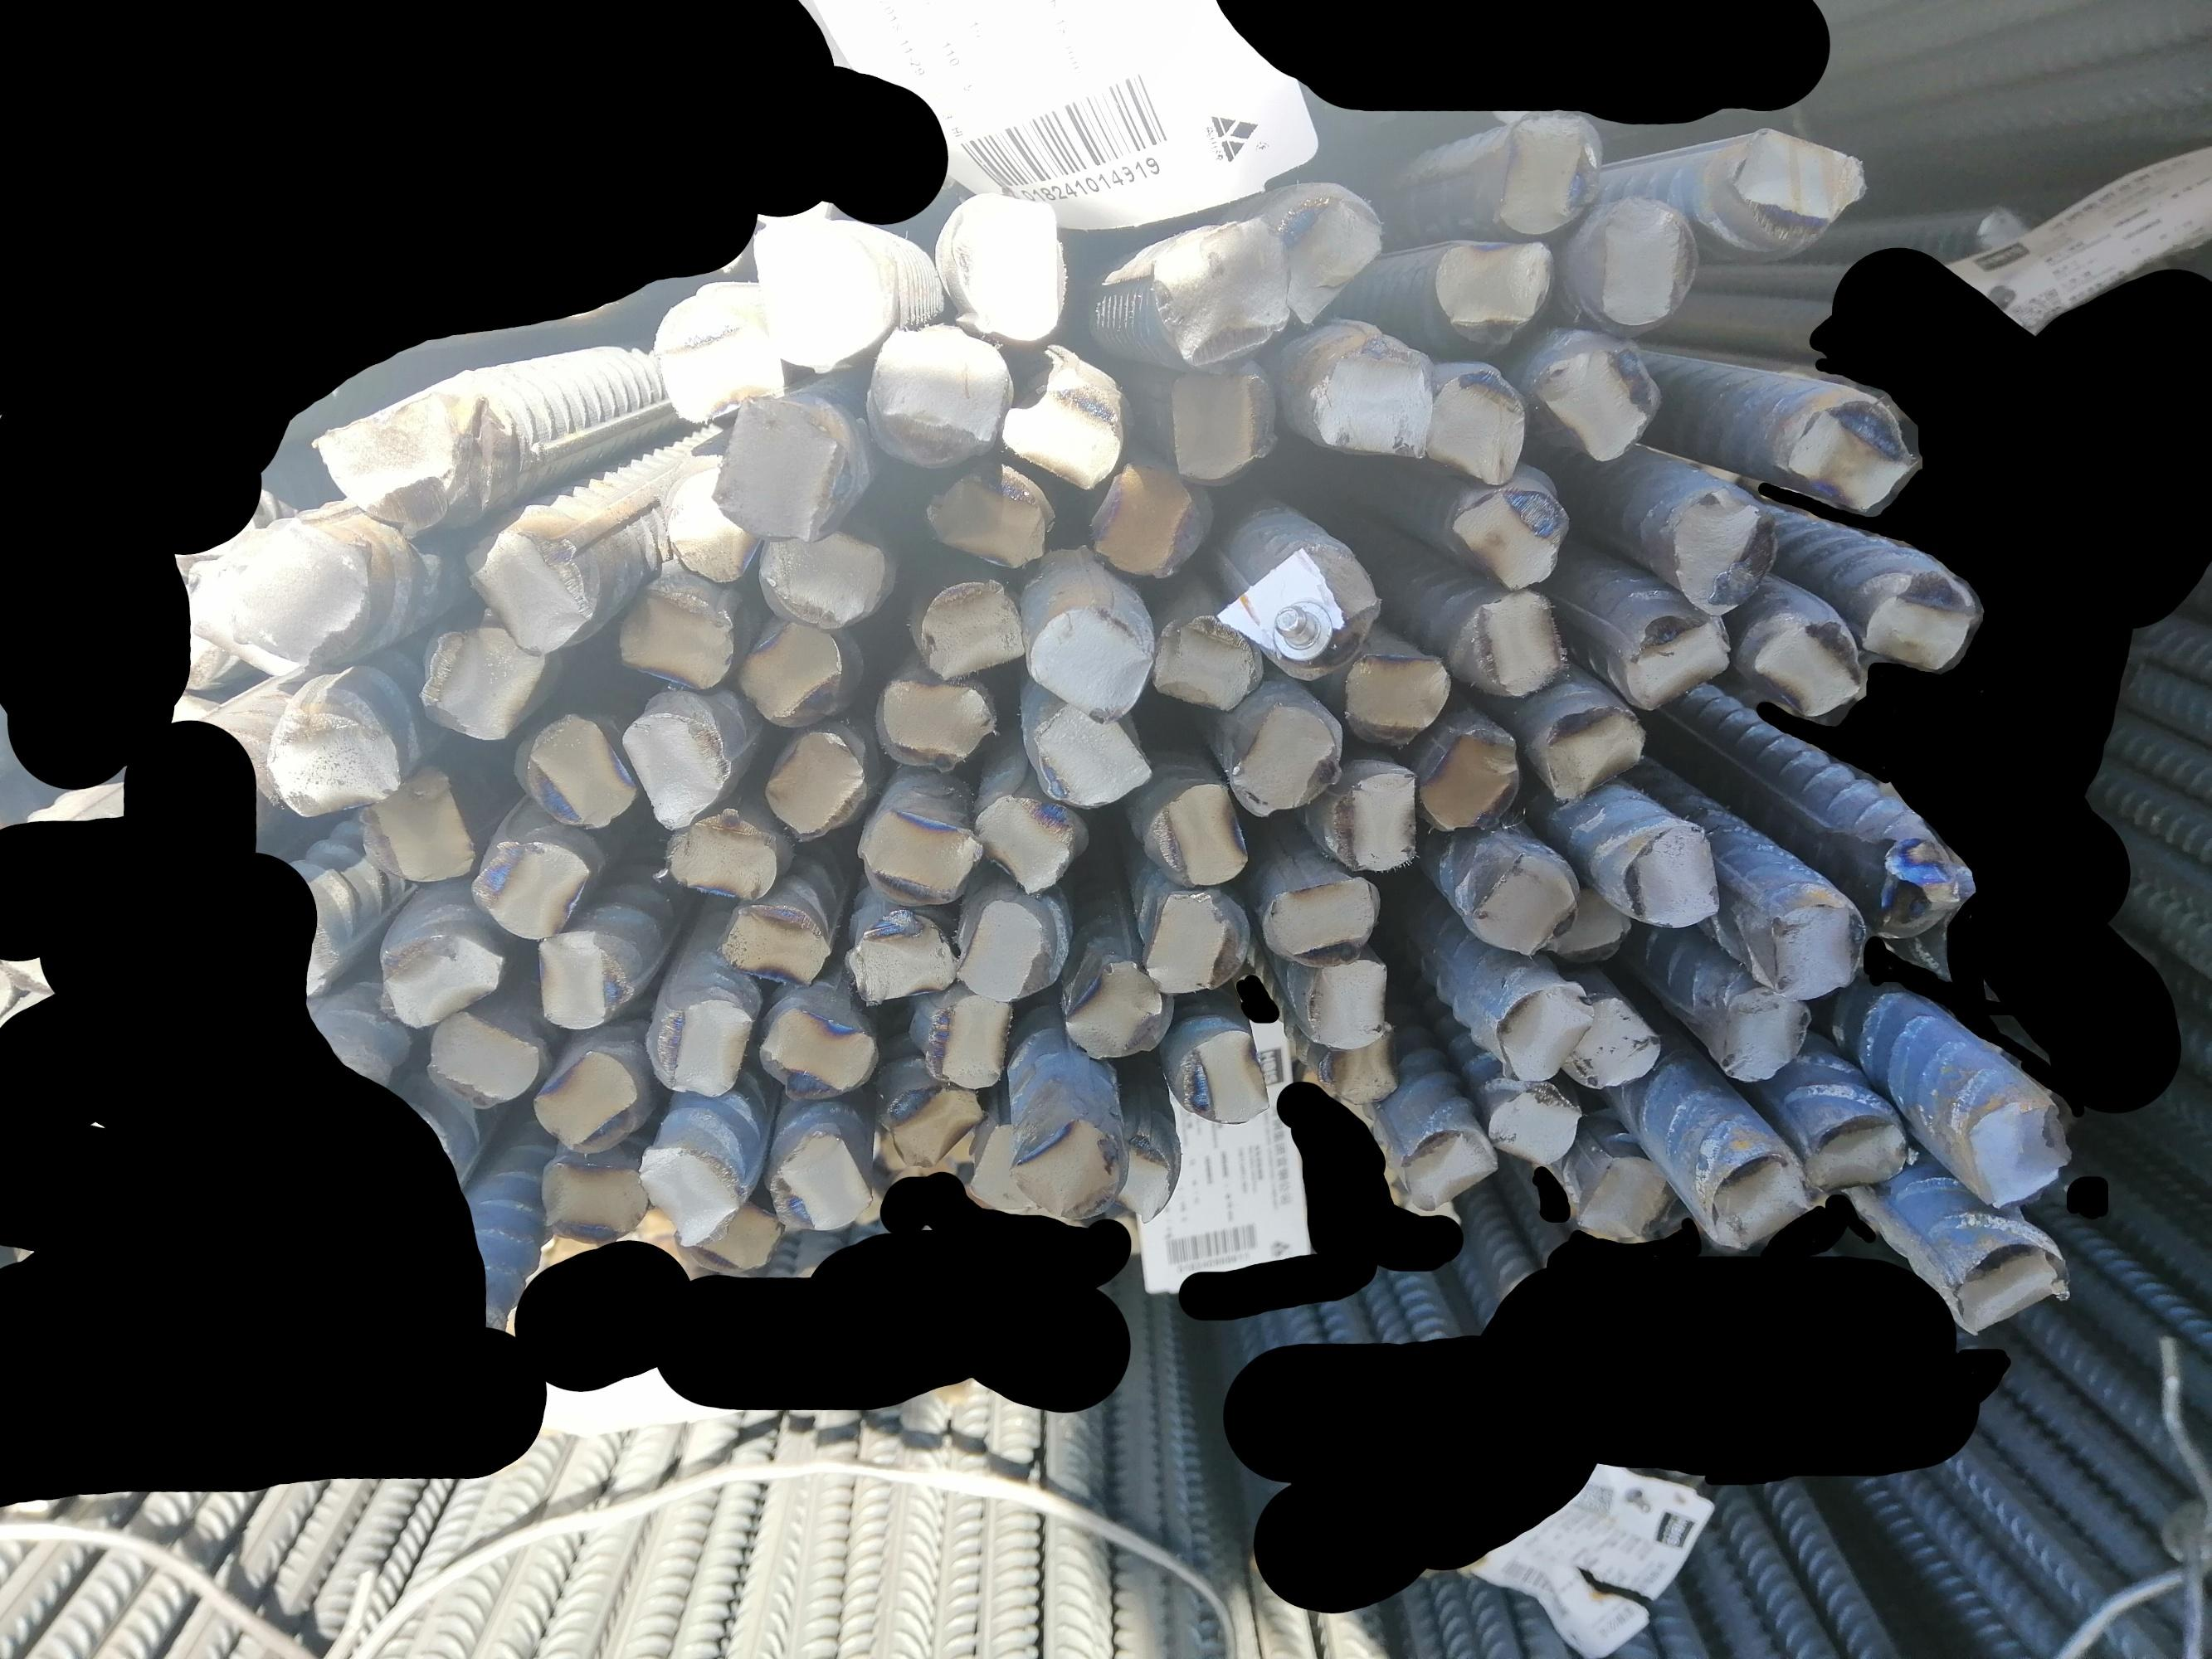bar: (312, 371, 525, 533), (178, 532, 378, 697), (1138, 214, 1295, 368), (739, 218, 892, 364), (1713, 122, 1872, 260), (865, 321, 1006, 469), (254, 683, 401, 824), (940, 193, 1074, 347), (640, 284, 788, 418), (990, 345, 1128, 488), (450, 518, 596, 652), (1295, 328, 1436, 465), (715, 394, 849, 538), (1252, 544, 1381, 685), (1781, 394, 1923, 519), (408, 622, 547, 748), (1572, 197, 1703, 329), (1537, 333, 1663, 467), (1271, 185, 1391, 324), (507, 711, 640, 833), (1961, 1077, 2076, 1216), (1220, 699, 1347, 824), (854, 796, 985, 917), (1020, 601, 1150, 721), (350, 762, 472, 887), (1161, 362, 1283, 488), (1661, 484, 1780, 613), (1021, 699, 1157, 810), (607, 577, 736, 694), (1415, 359, 1532, 484), (1497, 101, 1607, 234), (1086, 458, 1204, 580), (1431, 235, 1557, 350), (377, 918, 504, 1032), (1410, 713, 1522, 842), (1447, 481, 1569, 598), (467, 831, 591, 946), (757, 525, 892, 629), (920, 457, 1051, 565), (1942, 1236, 2074, 1342), (422, 1006, 549, 1115), (865, 1070, 985, 1185), (1752, 605, 1870, 720), (905, 570, 1028, 680), (622, 704, 730, 829), (873, 669, 999, 777), (1856, 563, 1982, 671), (739, 615, 858, 728), (1307, 756, 1421, 875), (945, 894, 1067, 1004), (659, 453, 760, 586), (755, 997, 879, 1105), (1611, 817, 1726, 932), (1748, 894, 1870, 1002), (1335, 641, 1449, 756), (528, 1042, 645, 1154), (1464, 847, 1576, 964), (762, 716, 866, 840), (629, 1129, 741, 1244), (1135, 885, 1252, 995), (533, 1143, 654, 1248), (1856, 823, 1958, 946), (760, 1122, 870, 1236), (1009, 1115, 1124, 1223), (1063, 946, 1170, 1063), (640, 992, 751, 1101), (837, 897, 950, 1006), (1149, 610, 1269, 711), (971, 788, 1081, 897), (1459, 589, 1569, 699), (1537, 694, 1645, 803), (1696, 1145, 1811, 1248), (1260, 870, 1379, 969), (722, 885, 835, 988), (913, 985, 1020, 1091), (1708, 985, 1818, 1087), (664, 805, 777, 904), (1621, 606, 1729, 709), (1147, 781, 1248, 890), (1572, 1152, 1687, 1248), (1494, 976, 1591, 1084), (1285, 953, 1388, 1053), (533, 924, 622, 1037), (1171, 1023, 1269, 1124), (1801, 1110, 1912, 1197), (1396, 1121, 1497, 1215), (962, 1112, 1053, 1216), (1565, 995, 1665, 1089), (1483, 1080, 1586, 1169), (678, 1206, 784, 1281), (1543, 882, 1635, 967), (1107, 1133, 1180, 1230), (1321, 1035, 1408, 1112)
